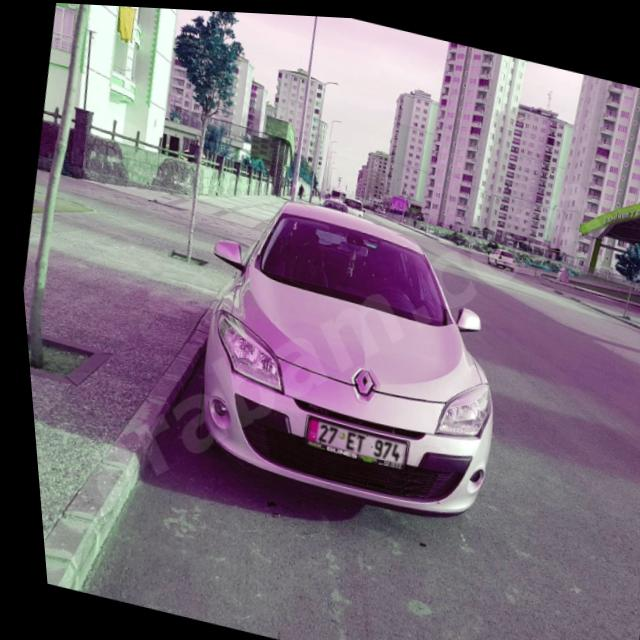license_plate: (297, 415, 401, 462)
